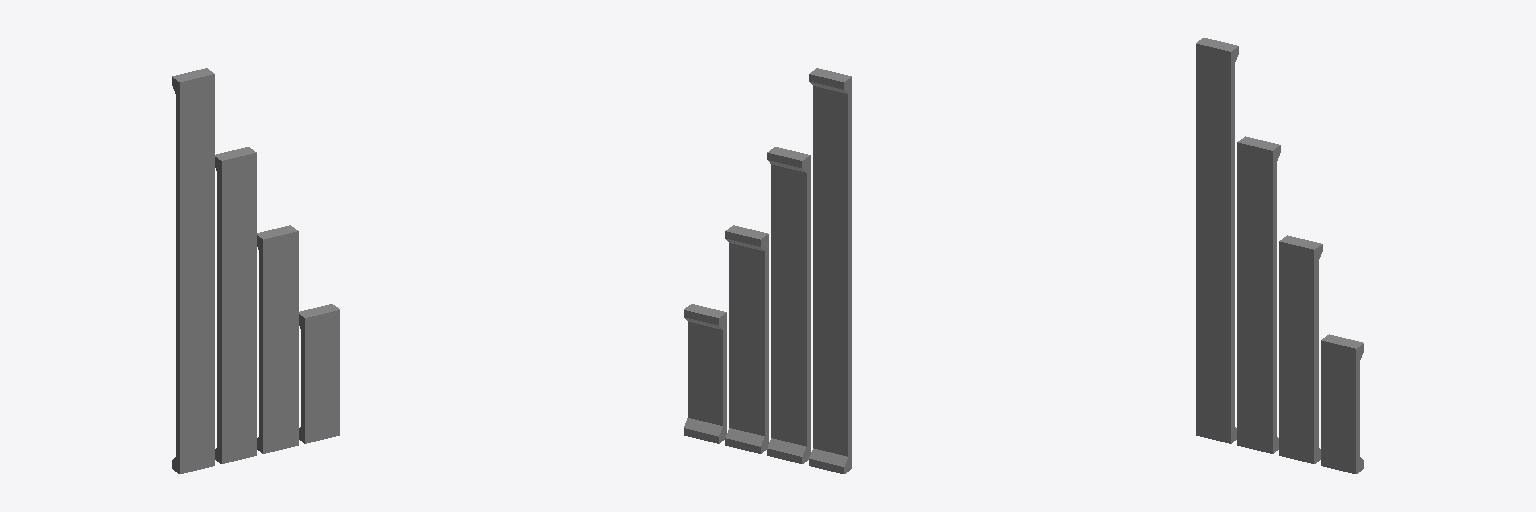
Rendered from MidSpan.obj.
3 renders of one model, left to right at view 1: azimuth 30°, elevation 25°; view 2: azimuth 150°, elevation 25°; view 3: azimuth 330°, elevation 25°, orthographic.
Visible parts, largest first — view 1: SM_MidSpan_1_E_Texture; view 2: SM_MidSpan_1_E_Texture; view 3: SM_MidSpan_1_E_Texture.
Boxes of the visible parts, x1=… form: SM_MidSpan_1_E_Texture: x1=172, y1=68, x2=339, y2=473; SM_MidSpan_1_E_Texture: x1=684, y1=68, x2=851, y2=473; SM_MidSpan_1_E_Texture: x1=1196, y1=38, x2=1363, y2=473.
Bounding box in the file's own units: 179 × 417 × 15.75.